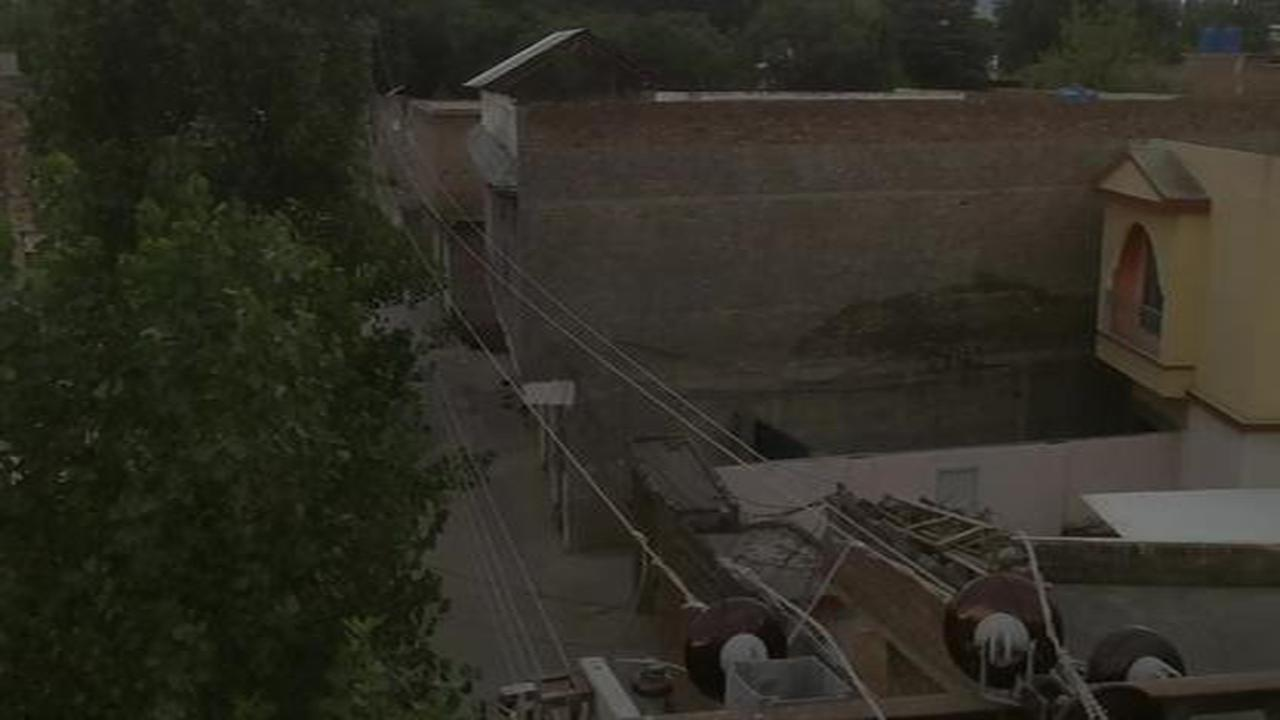insulator_disc: (940, 573, 1069, 681), (681, 595, 792, 687), (1088, 625, 1190, 699)
